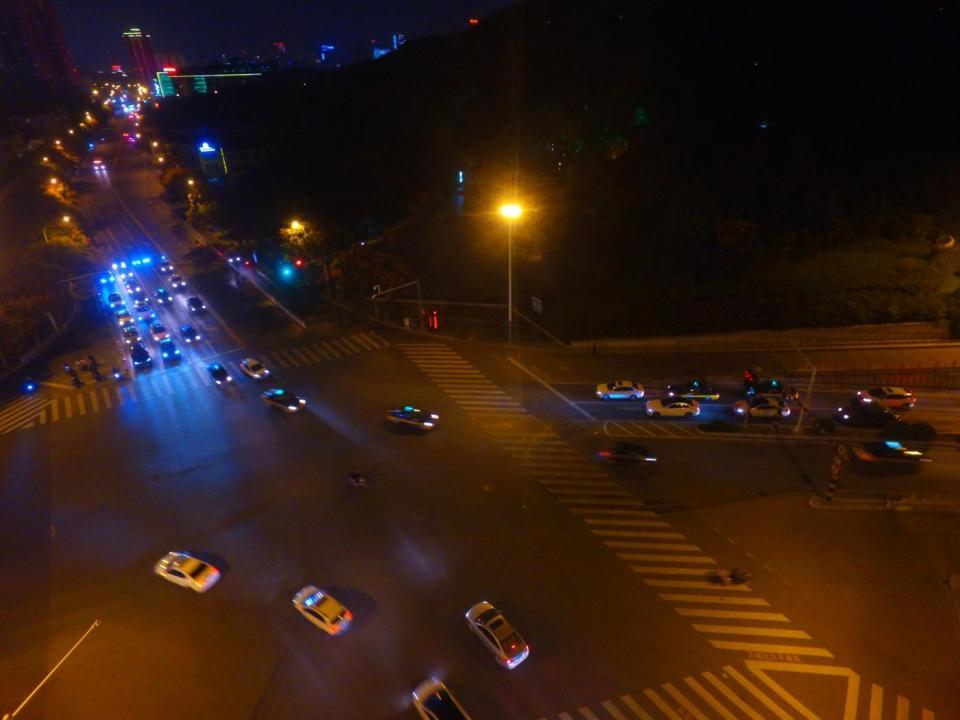car: (464, 600, 528, 671), (292, 585, 352, 638), (154, 548, 220, 594), (408, 678, 469, 718), (854, 442, 921, 467), (599, 441, 655, 468), (384, 405, 437, 432), (836, 402, 901, 424), (852, 388, 916, 410), (744, 380, 800, 402), (732, 396, 789, 417), (666, 381, 718, 404), (644, 398, 700, 419), (262, 389, 304, 415), (592, 380, 644, 399), (241, 358, 270, 380), (206, 364, 232, 388), (129, 344, 151, 370), (158, 340, 179, 364), (180, 326, 200, 346), (134, 302, 154, 322), (122, 328, 143, 347), (186, 296, 206, 314), (114, 310, 134, 328), (154, 323, 170, 345), (155, 289, 173, 308), (169, 274, 186, 292), (108, 292, 125, 310), (123, 280, 139, 297), (115, 266, 132, 282), (157, 258, 173, 274), (90, 157, 105, 171), (132, 293, 148, 306), (100, 268, 112, 285), (228, 252, 242, 266), (96, 133, 107, 143), (120, 130, 130, 139), (86, 141, 94, 152)
